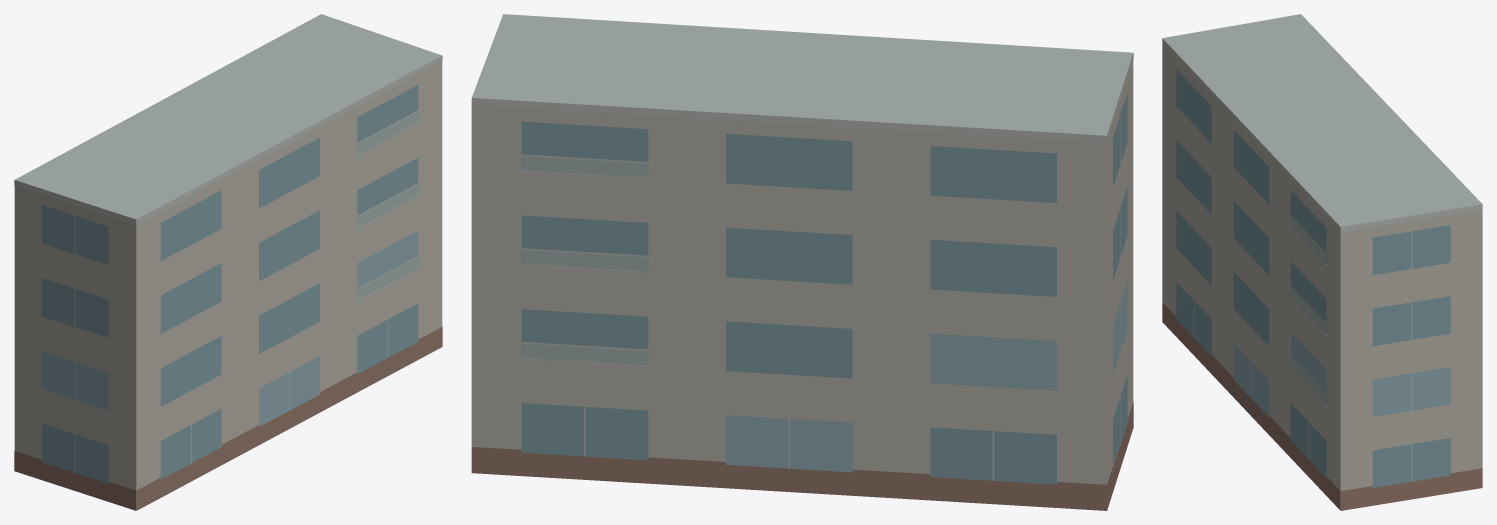
File: survey-upis-32523646.glb
3 renders of one model, left to right at view 1: azimuth 30°, elevation 25°; view 2: azimuth 150°, elevation 25°; view 3: azimuth 270°, elevation 25°, orthographic. The views are drawn at different scales.
Parts seen in each view (by area): view 1: survey-upis-32523646.tmp; view 2: survey-upis-32523646.tmp; view 3: survey-upis-32523646.tmp.
Boxes of the visible parts, x1=… form: survey-upis-32523646.tmp: x1=14, y1=14, x2=442, y2=510; survey-upis-32523646.tmp: x1=471, y1=14, x2=1133, y2=510; survey-upis-32523646.tmp: x1=1162, y1=14, x2=1482, y2=510.
Bounding box in the file's own units: 20.63 × 12.8 × 13.11.
